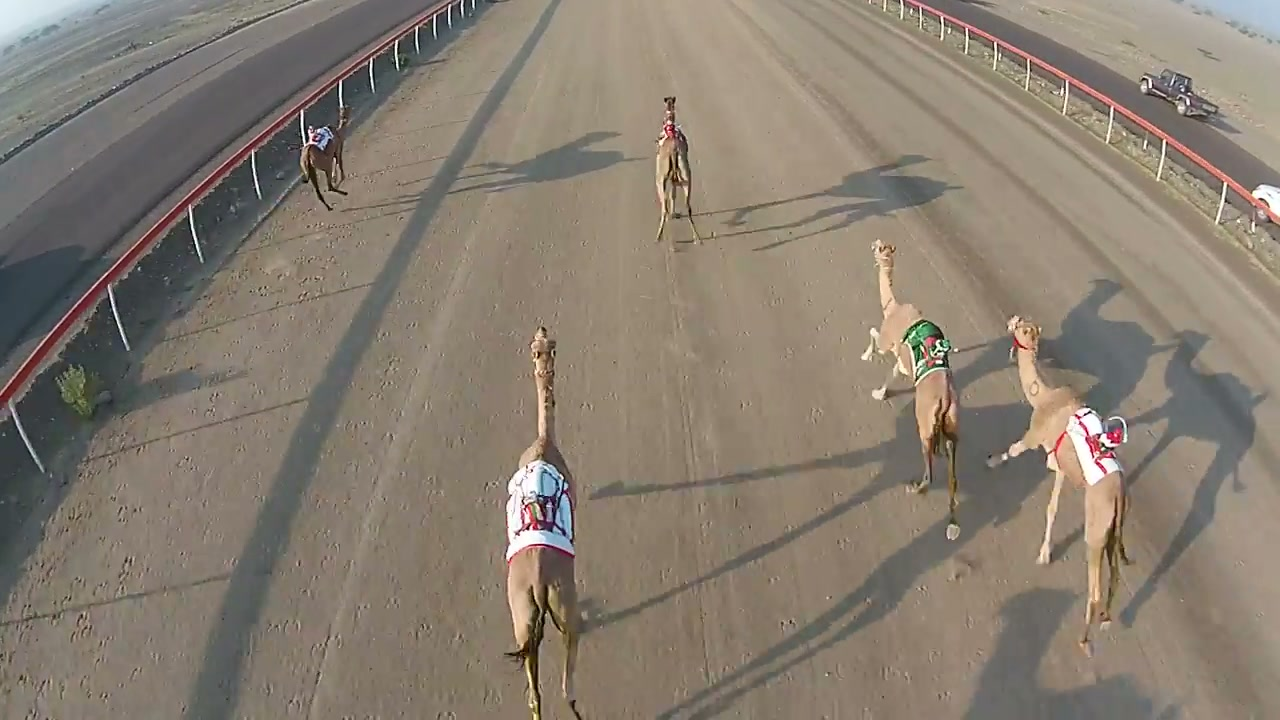animal_foot_print: (0, 187, 367, 707), (209, 280, 524, 717), (709, 271, 926, 715)
